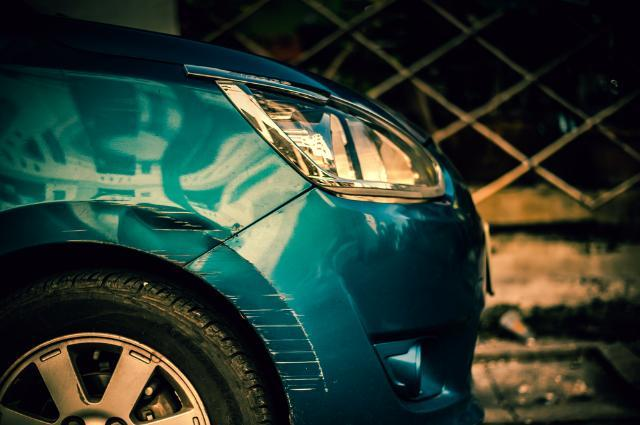dent: (116, 205, 219, 263)
scratch: (180, 234, 334, 418)
